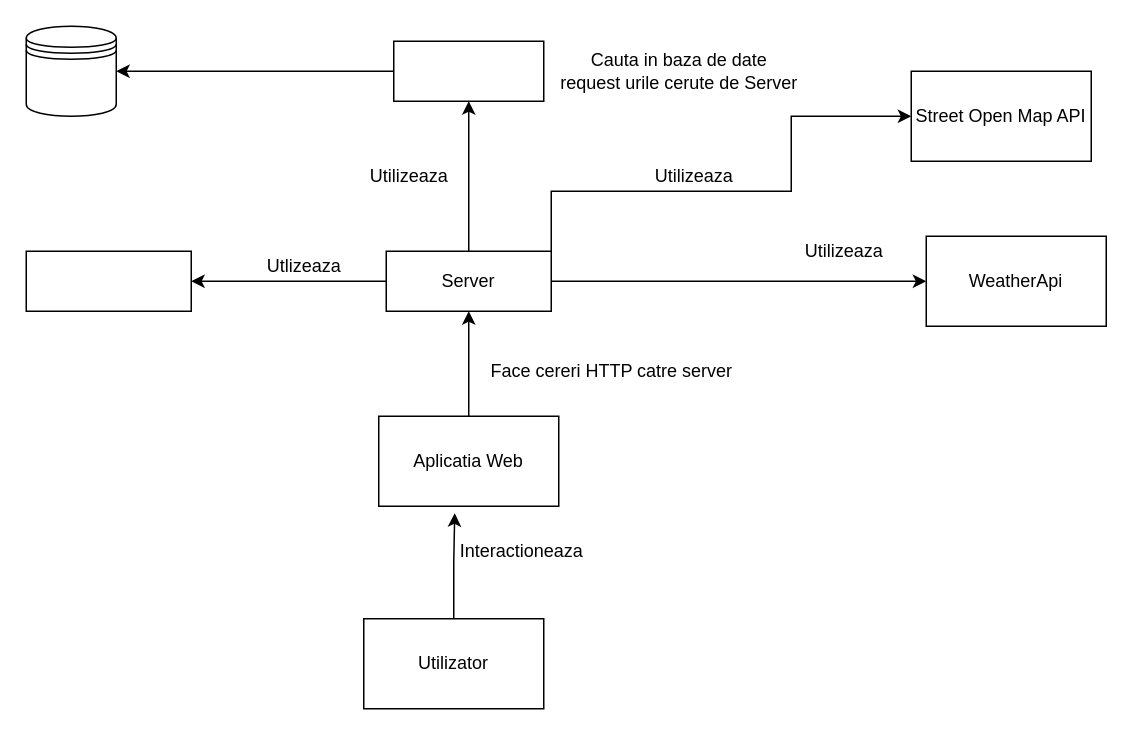
Some shapes in this 1133 by 735 pixel diagram are drawn without their labels. Here are the shapes that lost their labels. From the top down, the centre of each, then its label:
At [468,70]: "Database Manager".
At [108,280]: "Github Auth Api".
